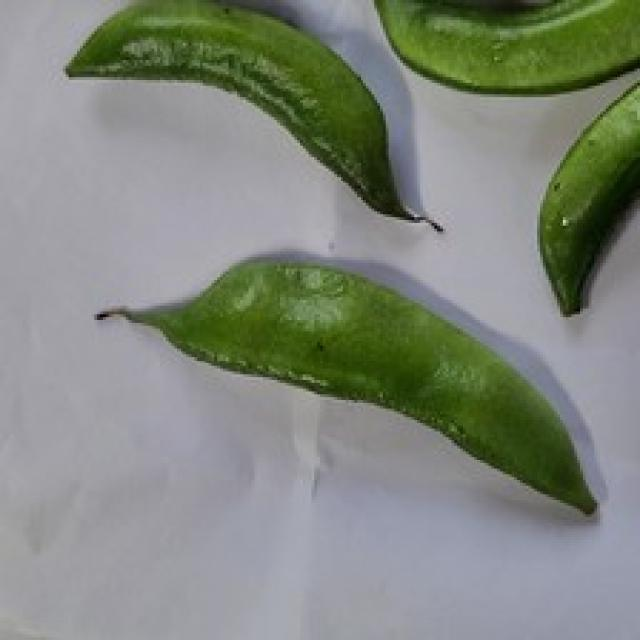Bean: (91, 254, 608, 517), (63, 0, 443, 231), (534, 49, 637, 317), (365, 0, 637, 94)
